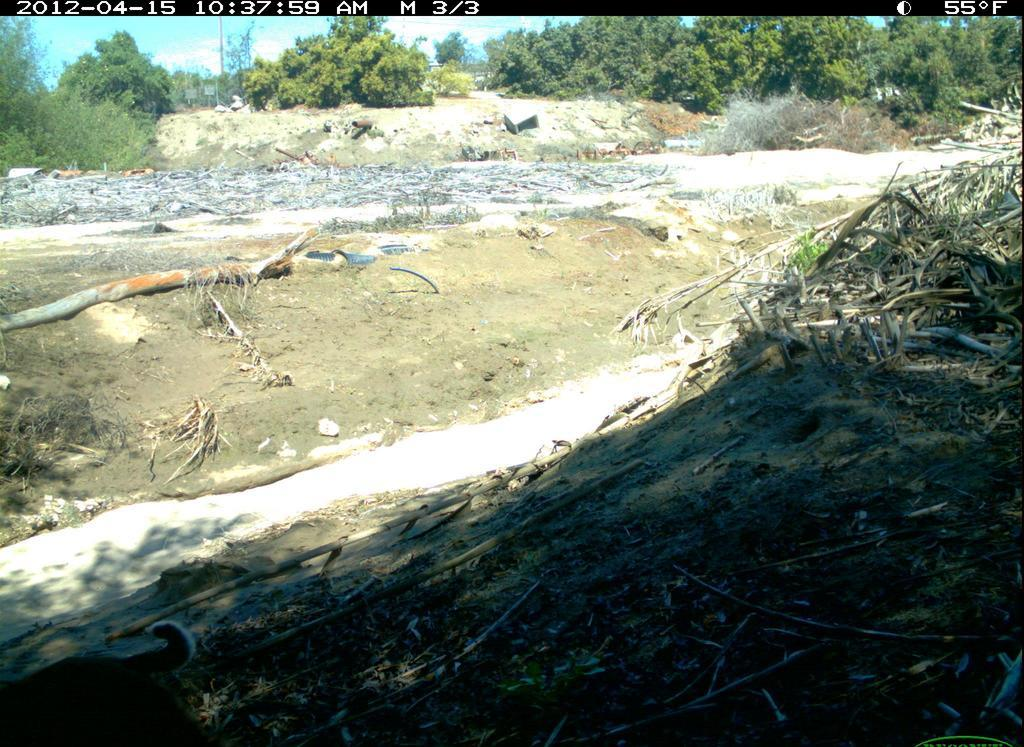bobcat: (8, 610, 214, 747)
